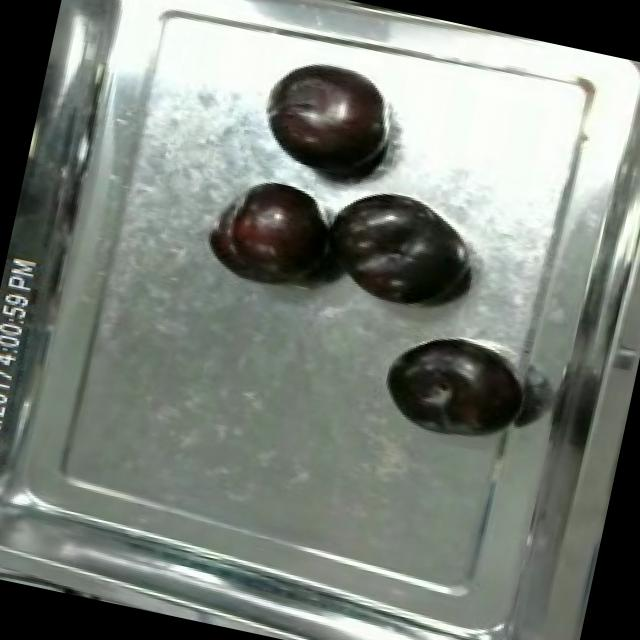Fruit: (308, 176, 488, 326), (370, 321, 534, 453), (252, 51, 404, 192), (198, 164, 345, 302)
